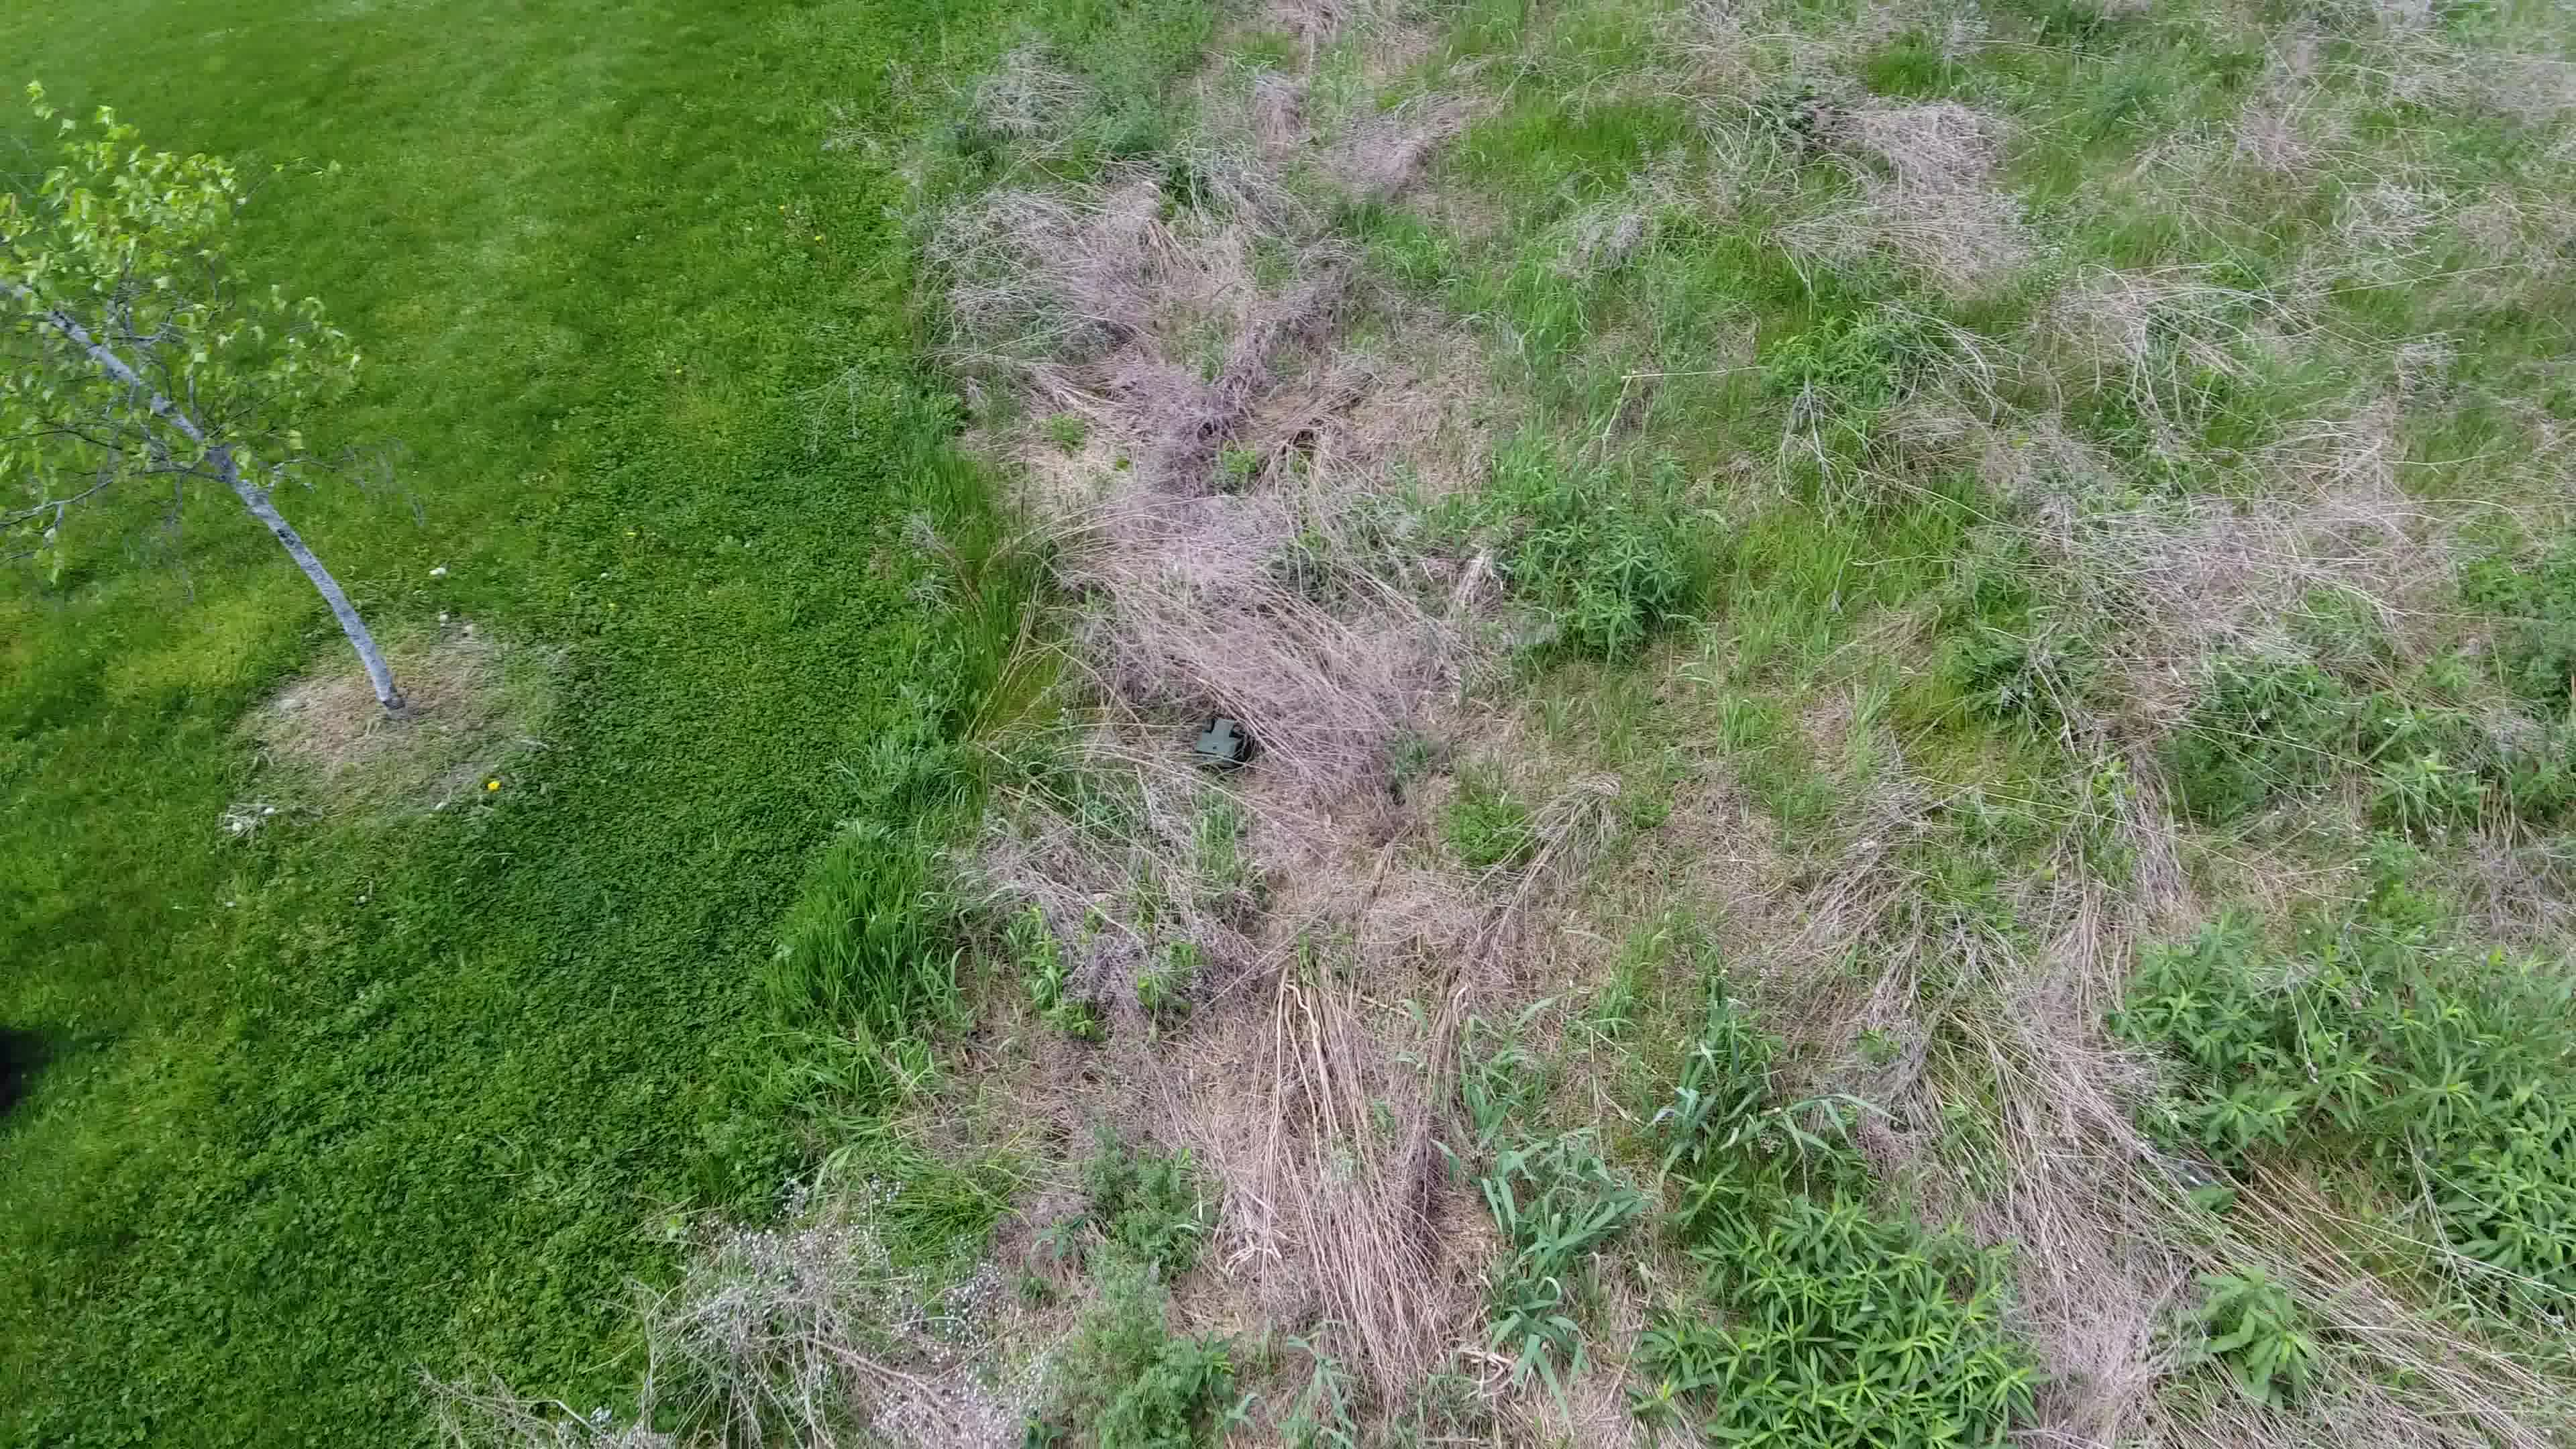transporter9: (1187, 711, 1253, 773)
